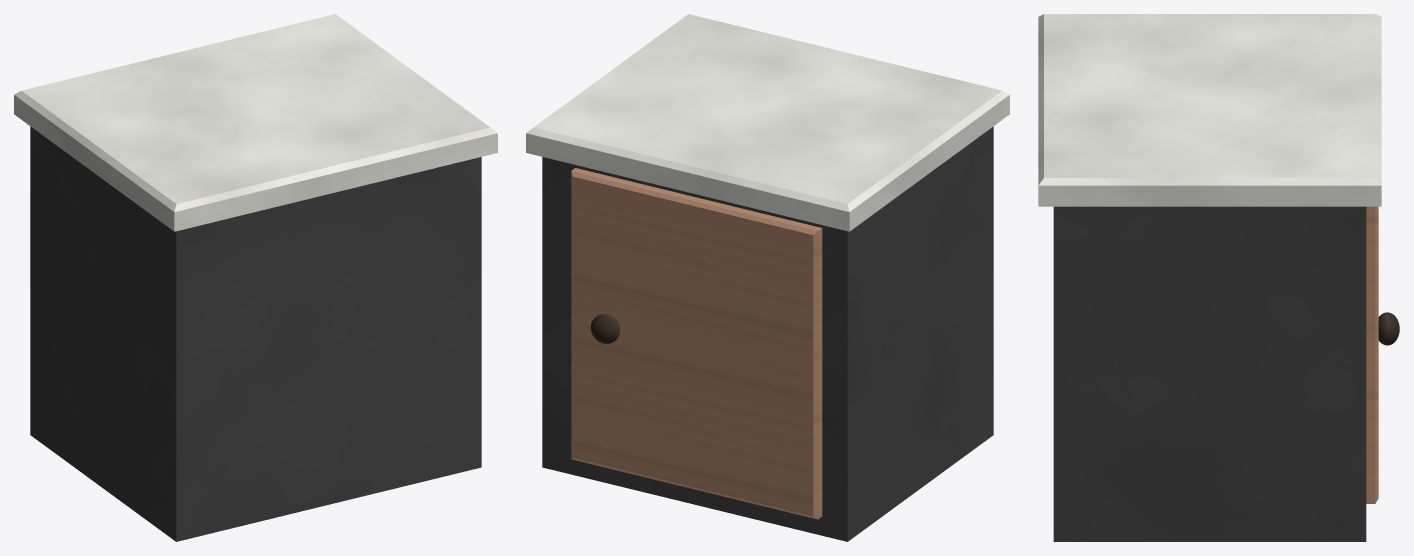
Rendered from KitchenCupboardRight.fbx.
3 renders of one model, left to right at view 1: azimuth 30°, elevation 25°; view 2: azimuth 150°, elevation 25°; view 3: azimuth 270°, elevation 25°, orthographic. The views are drawn at different scales.
Visible parts, largest first — view 1: Kitchen_Cabinet_Right; view 2: Kitchen_Cabinet_Right; view 3: Kitchen_Cabinet_Right.
Boxes of the visible parts, x1,y1,x2,y2 form: Kitchen_Cabinet_Right: [14, 14, 497, 541]; Kitchen_Cabinet_Right: [526, 14, 1009, 541]; Kitchen_Cabinet_Right: [1038, 14, 1399, 541].
Bounding box in the file's own units: 101 × 102 × 91.06.
Materials: 1 (1 with a texture image).
